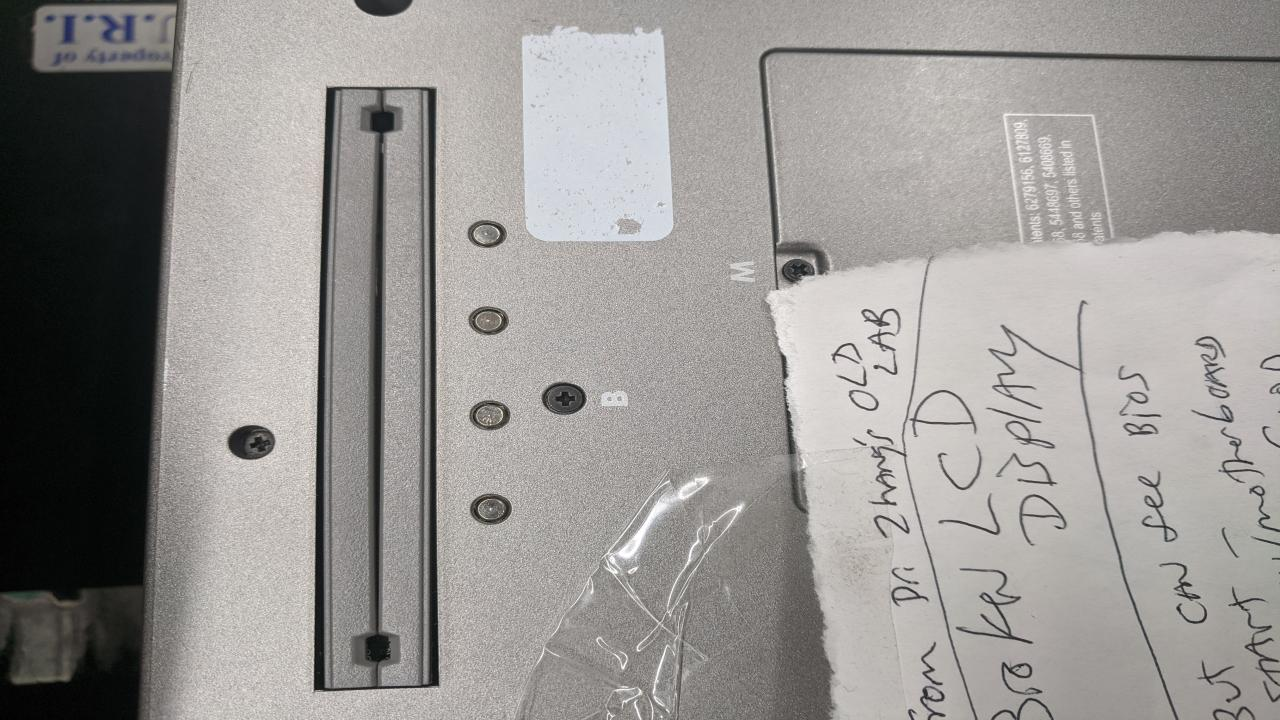CRS: (544, 380, 584, 412), (778, 256, 818, 284), (238, 428, 274, 459)
